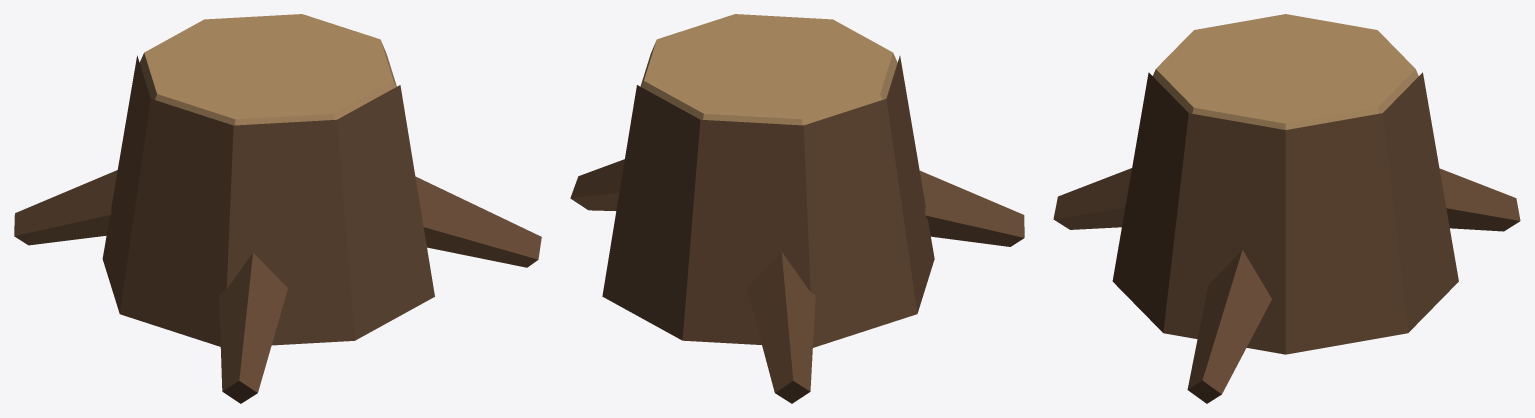
File: nat-toco.gltf
3 renders of one model, left to right at view 1: azimuth 30°, elevation 25°; view 2: azimuth 150°, elevation 25°; view 3: azimuth 270°, elevation 25°, orthographic.
Parts seen in each view (by area): view 1: nat-toco; view 2: nat-toco; view 3: nat-toco.
Part boxes in pixels (x1=…): nat-toco: x1=14, y1=14, x2=541, y2=403; nat-toco: x1=570, y1=14, x2=1024, y2=403; nat-toco: x1=1053, y1=14, x2=1520, y2=403.
Size of the model in its own units: 0.6169 by 0.3477 by 0.6473.
